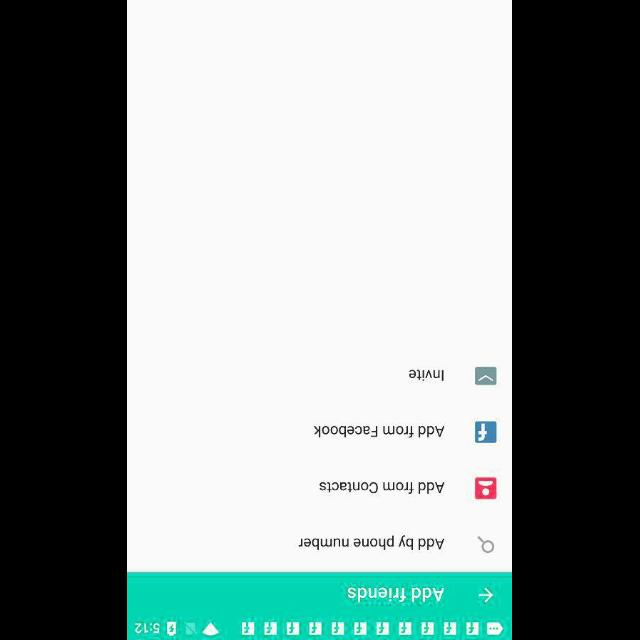icon: (475, 421, 497, 443), (475, 477, 497, 499), (475, 366, 497, 386), (478, 536, 494, 552), (479, 586, 493, 602)
text: (299, 534, 445, 550), (314, 426, 446, 438), (320, 481, 444, 493), (348, 587, 446, 601), (410, 369, 444, 381)
toolbar: (128, 572, 512, 616)
uppertaskbar: (128, 617, 512, 639)
